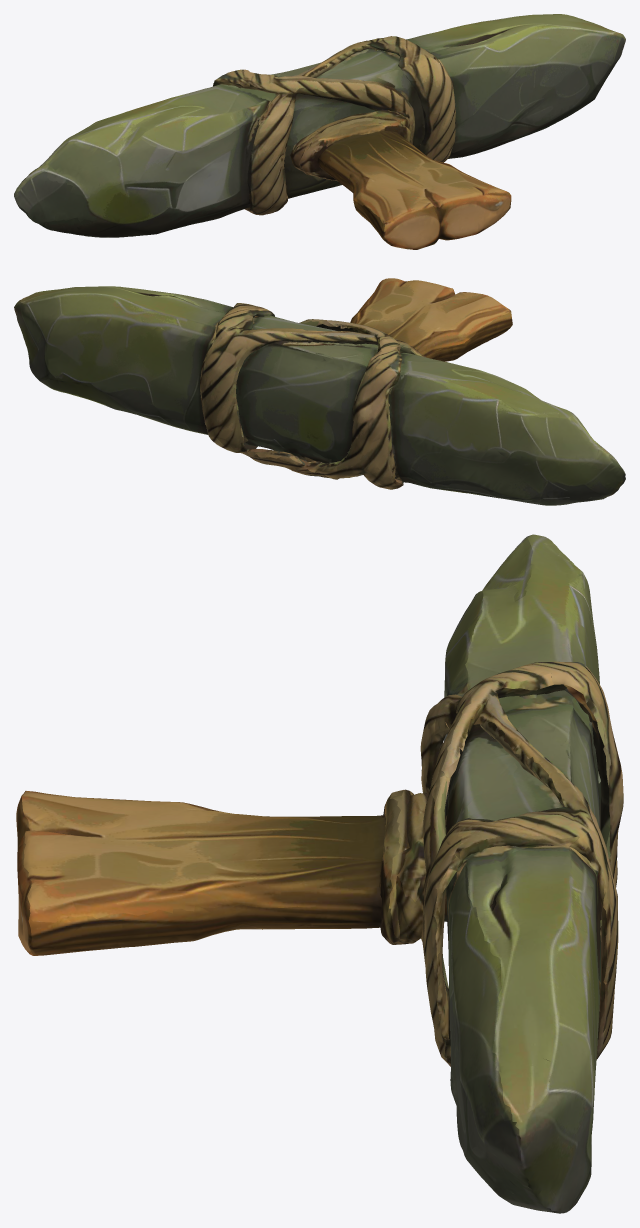
File: tool_hammer.glb
3 renders of one model, top to bottom at view 1: azimuth 30°, elevation 25°; view 2: azimuth 150°, elevation 25°; view 3: azimuth 270°, elevation 25°, orthographic. The views are drawn at different scales.
Visible parts, largest first — view 1: tool_hammer; view 2: tool_hammer; view 3: tool_hammer.
Part boxes in pixels (bbox=[...]): tool_hammer: bbox=[14, 14, 625, 249]; tool_hammer: bbox=[14, 278, 625, 505]; tool_hammer: bbox=[16, 534, 623, 1213].
Size of the model in its own units: 0.55 by 0.1181 by 0.2384.
Materials: 1 (1 with a texture image).
